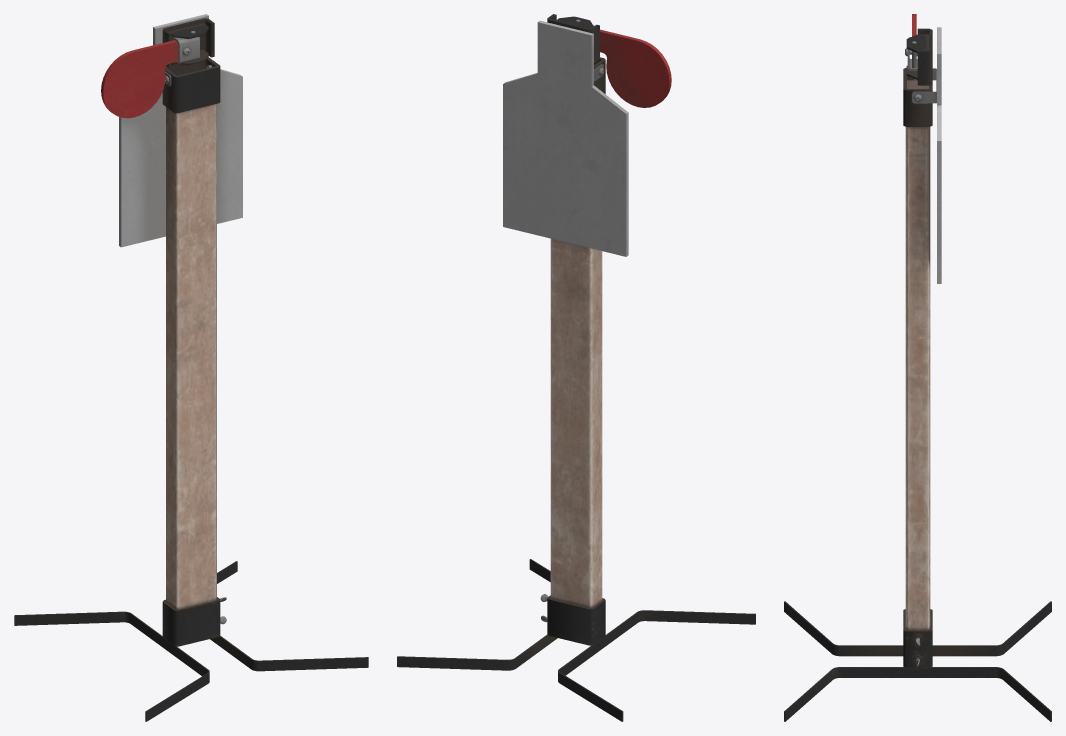
Rendered from target_hostage_steel.glb.
The picture shows the model from 3 angles, left to right: view 1: azimuth 30°, elevation 25°; view 2: azimuth 150°, elevation 25°; view 3: azimuth 270°, elevation 25°; orthographic projection.
Visible parts, largest first — view 1: HostageSteel_TargetSet01_0, HostageSteel_Target_TargetSet01_0; view 2: HostageSteel_TargetSet01_0, HostageSteel_Target_TargetSet01_0; view 3: HostageSteel_TargetSet01_0.
Part boxes in pixels (x1,y1,x2,y2): HostageSteel_TargetSet01_0: [14, 14, 368, 721]; HostageSteel_Target_TargetSet01_0: [101, 37, 199, 118]; HostageSteel_TargetSet01_0: [397, 14, 755, 721]; HostageSteel_Target_TargetSet01_0: [593, 25, 671, 107]; HostageSteel_TargetSet01_0: [784, 27, 1051, 721].
Bounding box in the file's own units: 0.5448 × 1.44 × 0.5584.
Materials: 1 (1 with a texture image).
